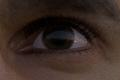eye: (42, 25, 74, 50)
